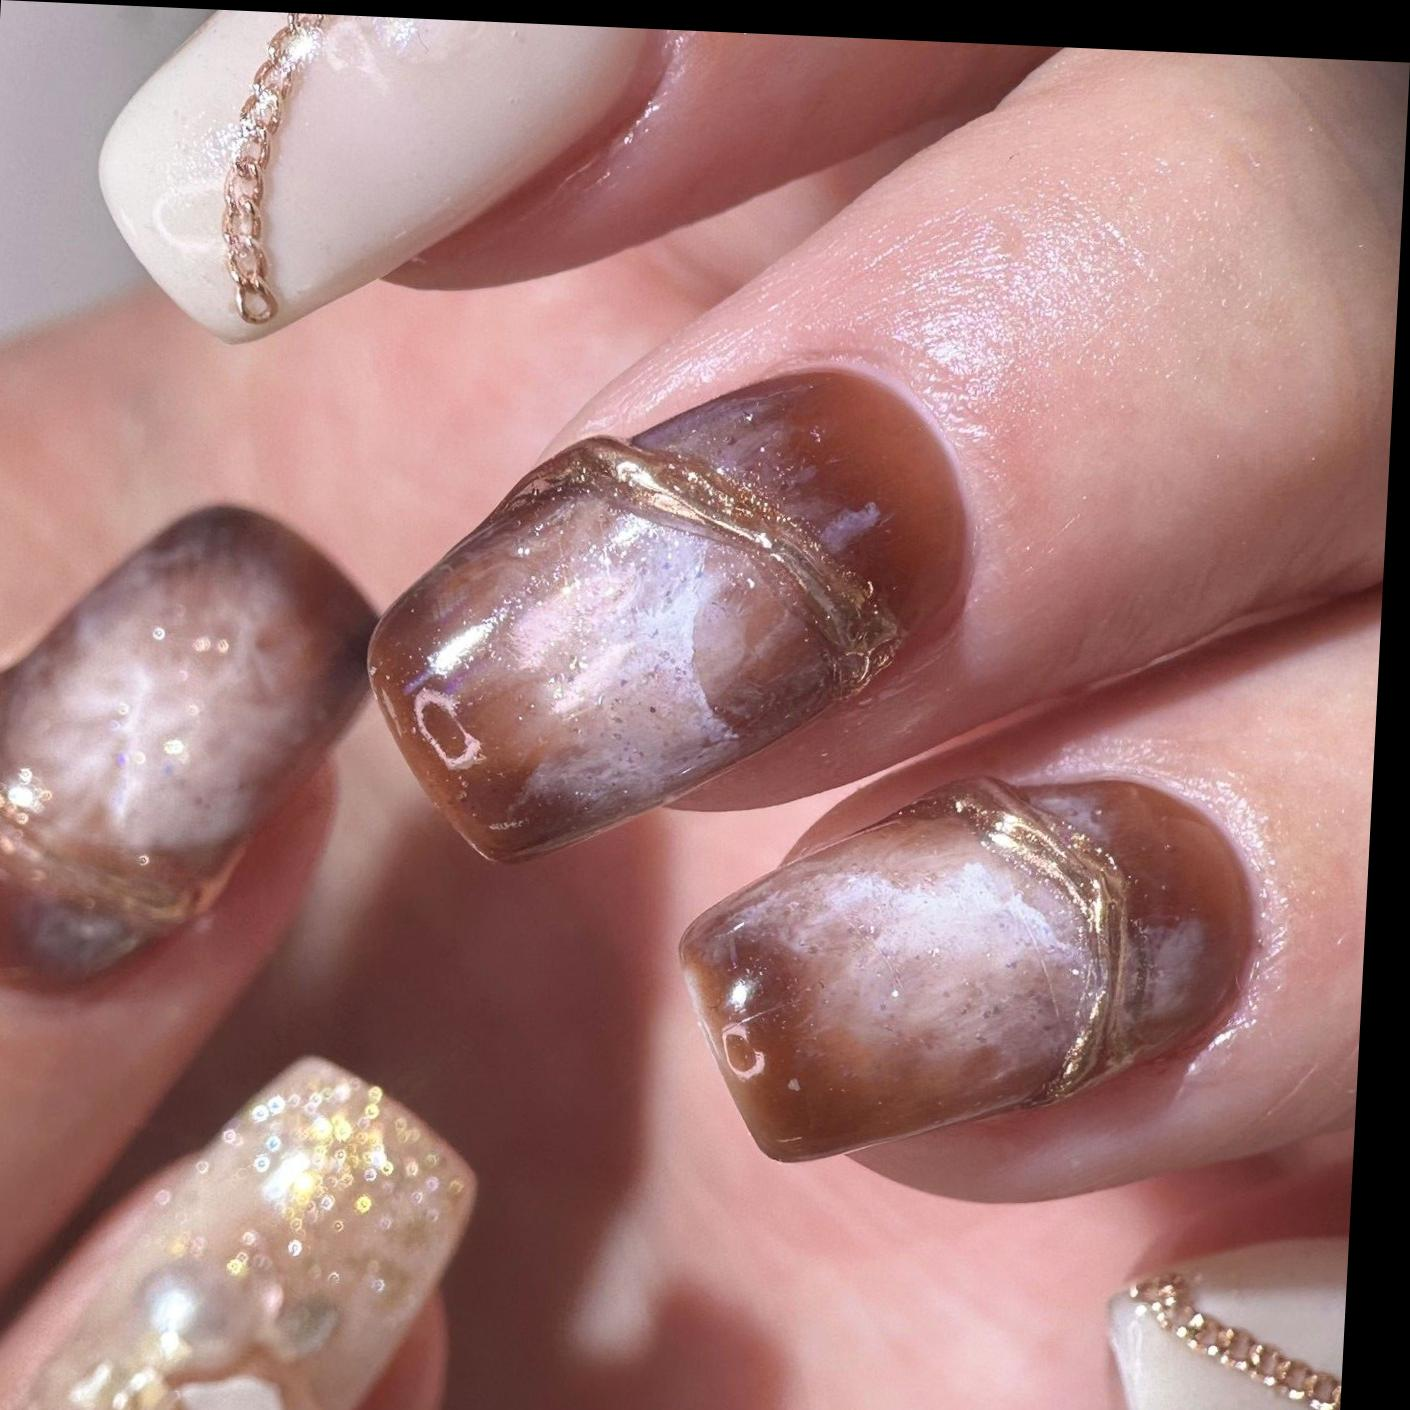nail: (351, 340, 979, 887), (662, 757, 1260, 1187), (84, 4, 653, 364), (0, 493, 381, 1012), (0, 1042, 484, 1410), (1096, 1224, 1349, 1410)
